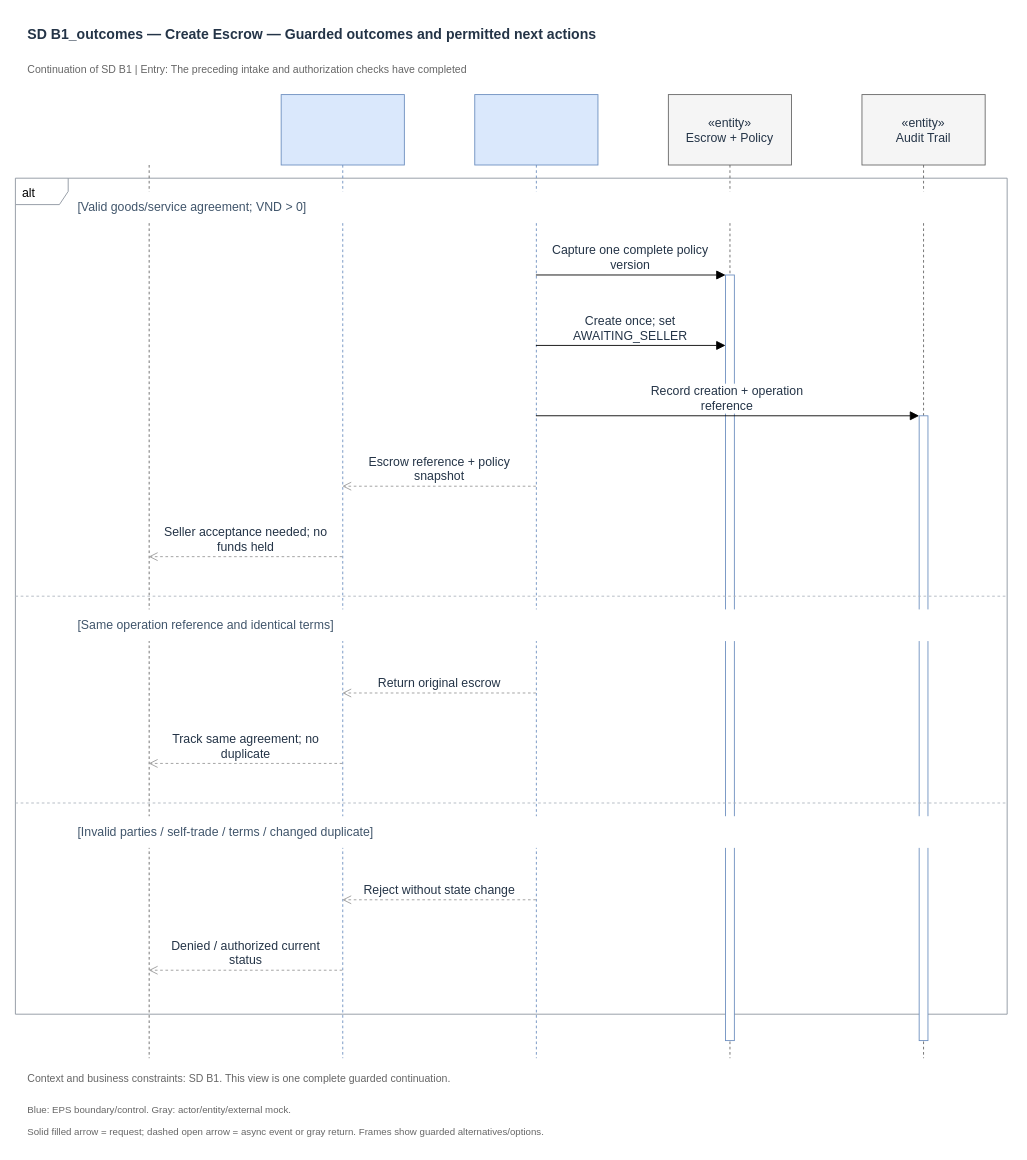
Some shapes in this 1027 by 1160 pixel diagram are drawn without their labels. The shapes that lost their labels are listed below. From the top down, each one's box as (x1, y1, x2, y2) in pixels, then its label:
(87, 94, 211, 1058): Buyer
(280, 94, 404, 1058): «boundary» Escrow UI
(474, 94, 598, 1058): «control» Escrow Control
